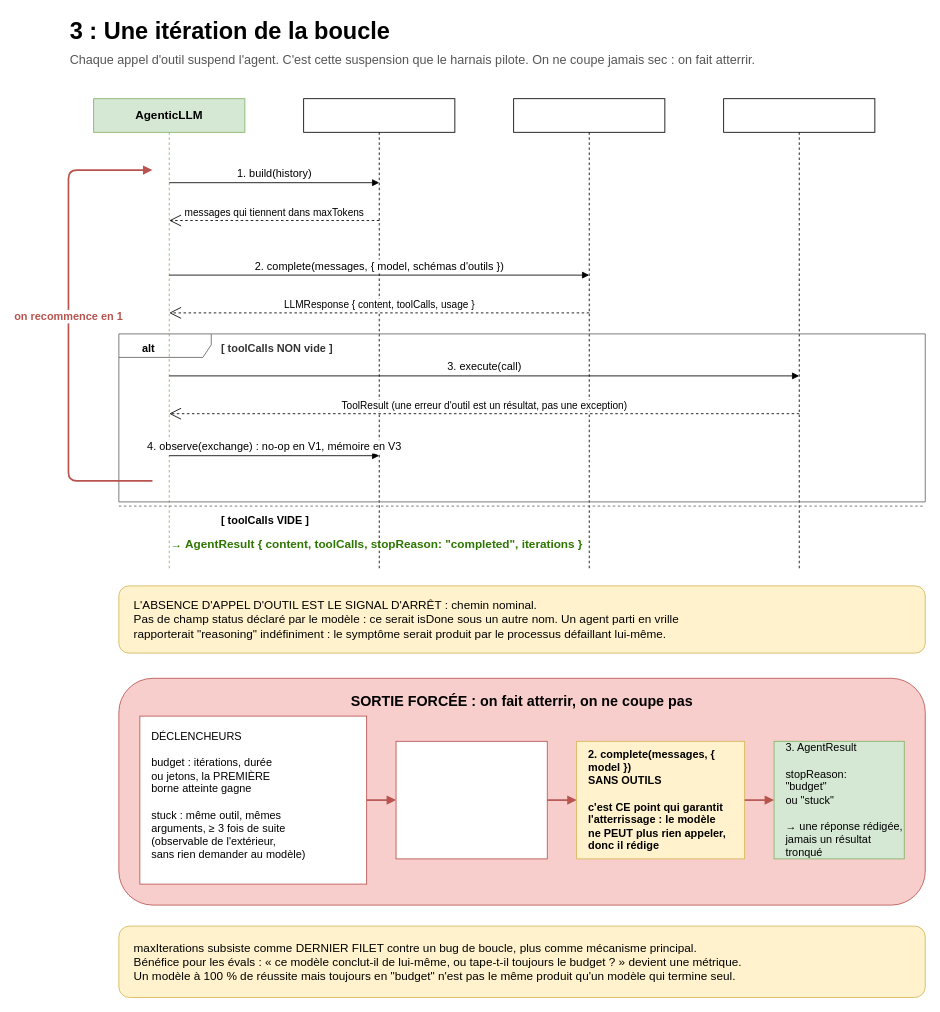
This 940x1012 diagram has some shape labels left out. The box of each missing label's shape, as (x1, y1, x2, y2) in pixels:
1. injecter "budget atteint, conclus avec ce que tu as": (395, 740, 547, 859)
ContextStrategy: (303, 98, 455, 569)
LLMProvider: (513, 98, 665, 569)
ToolDispatcher: (723, 98, 875, 569)
